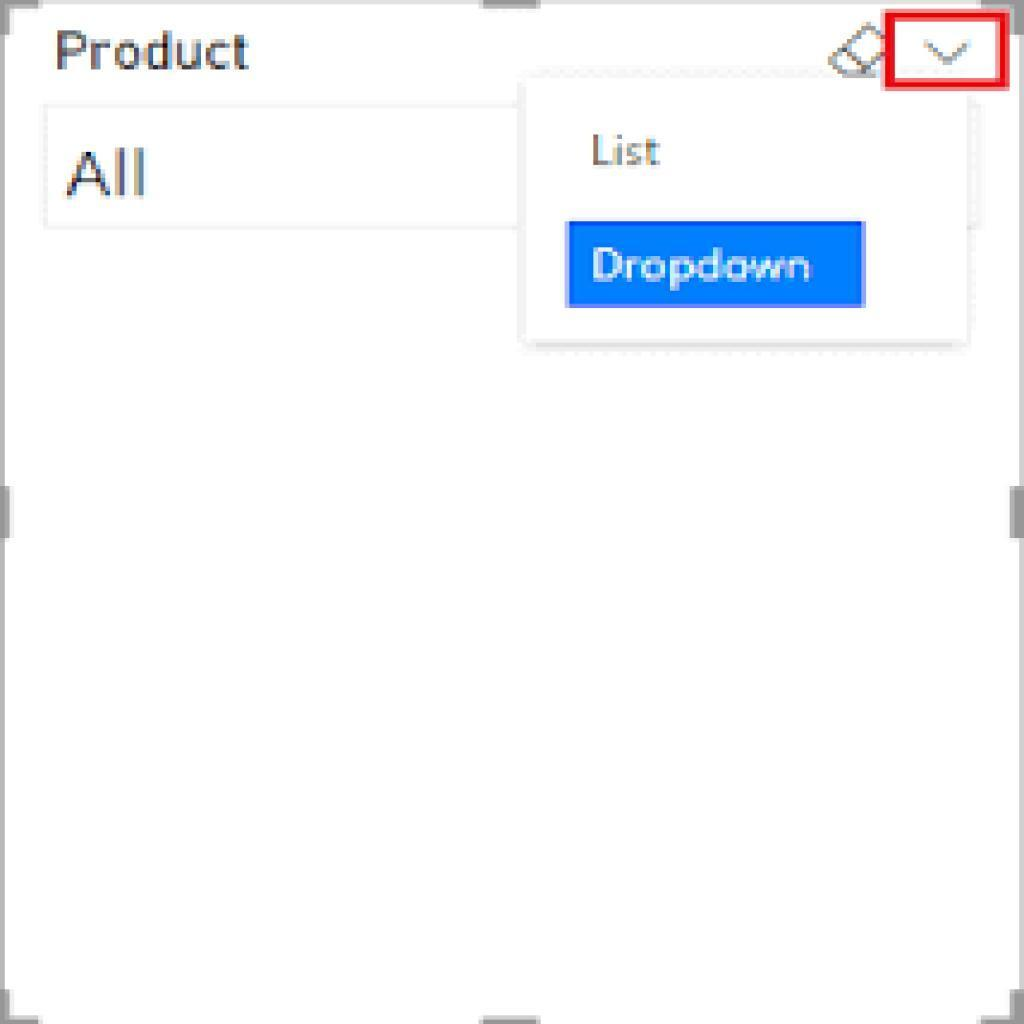button: (566, 221, 866, 310)
icon: (826, 20, 888, 94), (915, 28, 980, 76)
